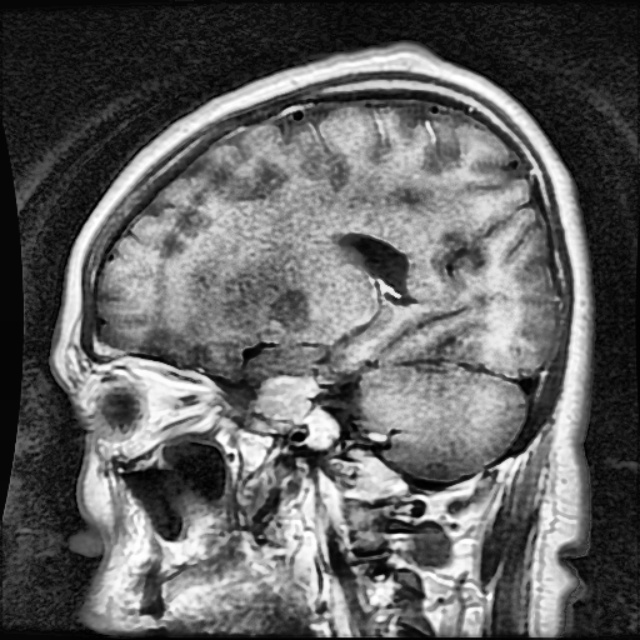Pituitary: (252, 374, 338, 447)
